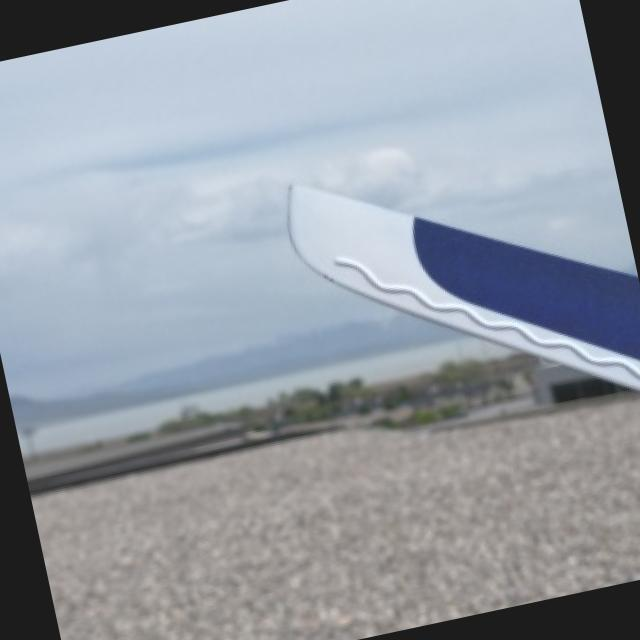healthy: (289, 184, 640, 387)
